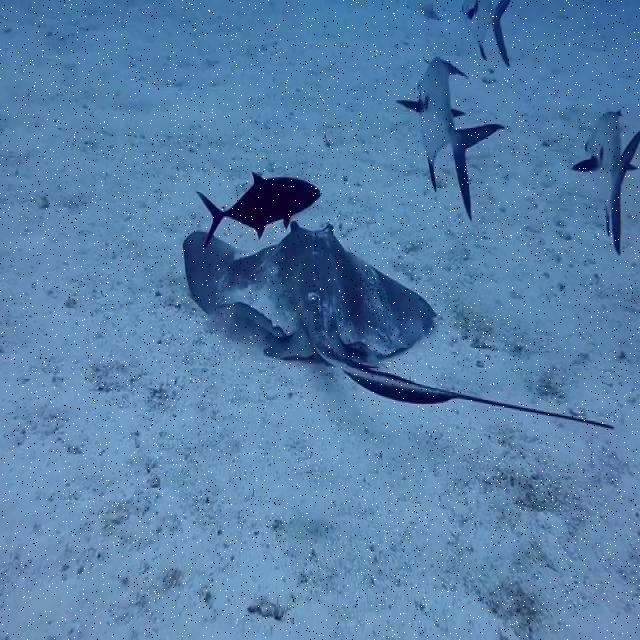fish: (181, 223, 618, 430), (397, 53, 503, 225), (573, 114, 636, 261), (196, 173, 321, 241), (460, 2, 511, 62)
